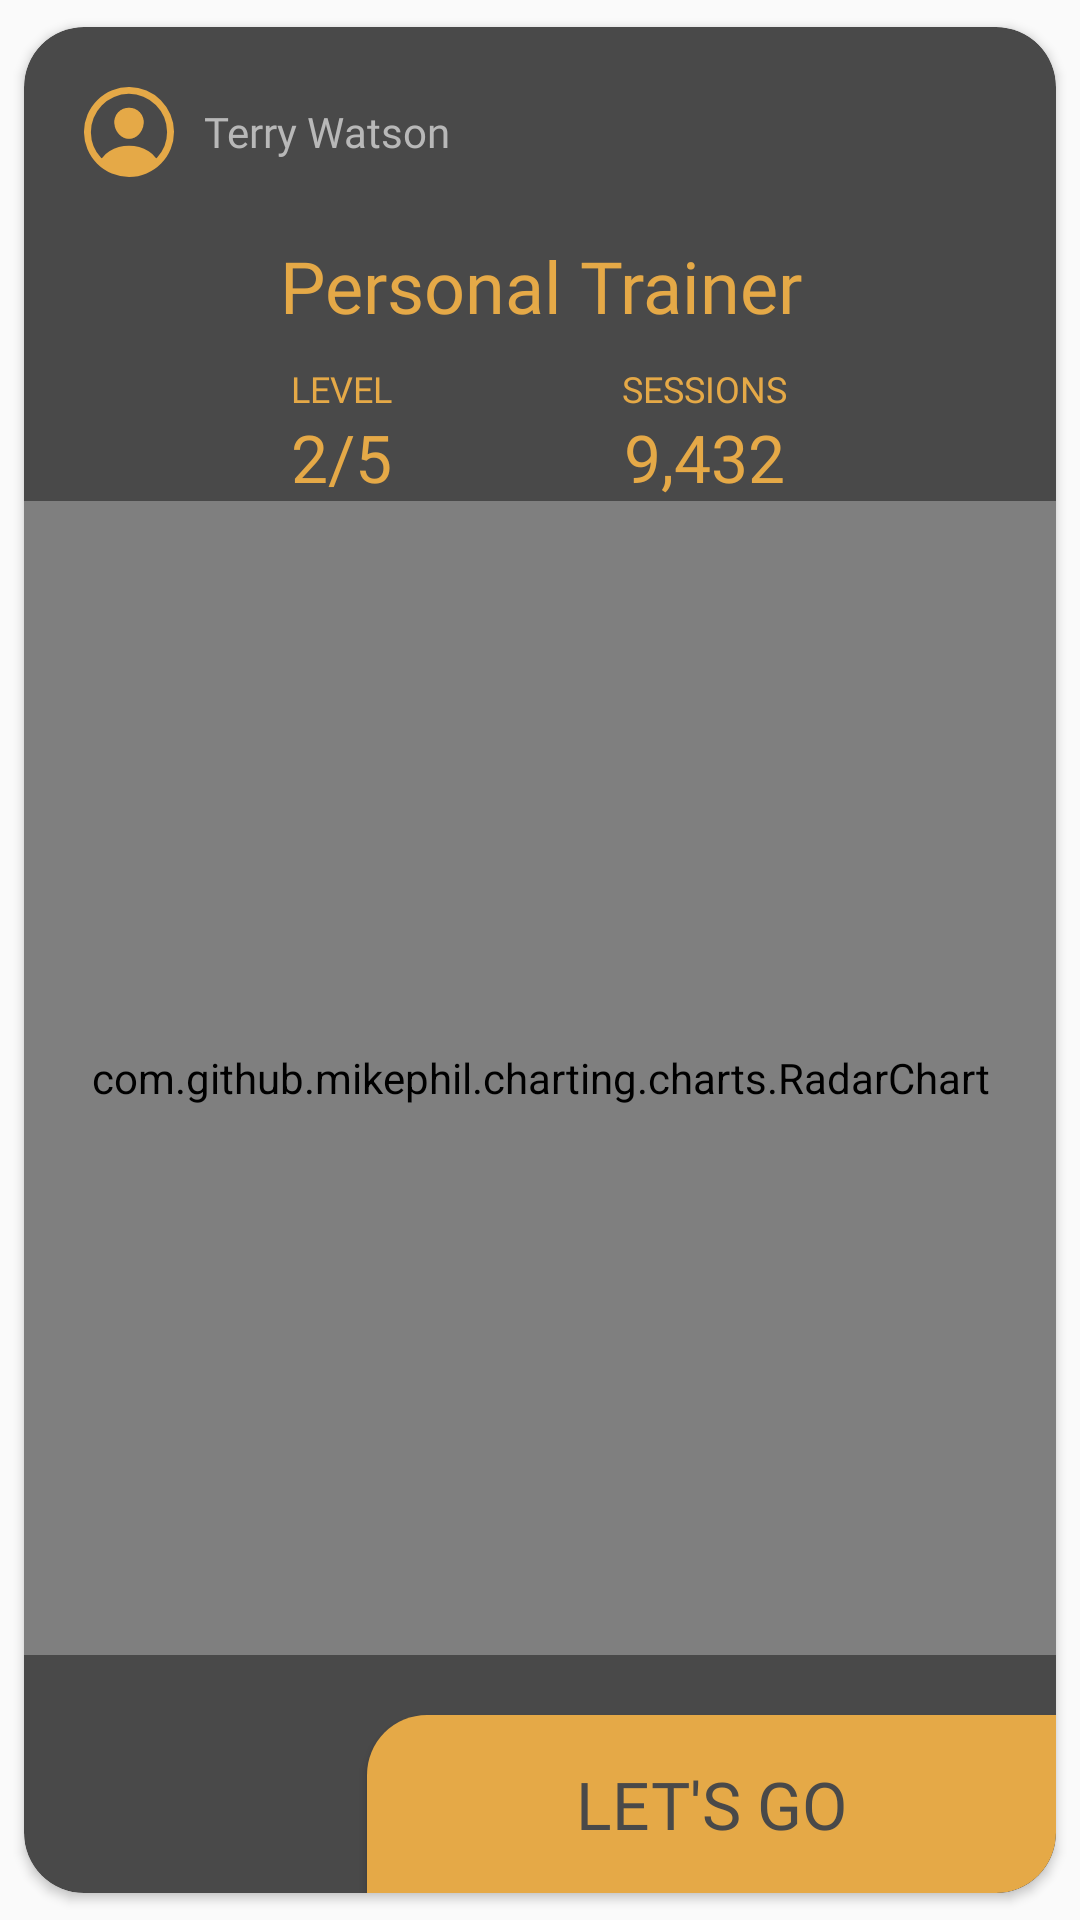

Locate icon controls on the screen. Image size 1080x1920, boxes as (x1, y1, x2, y2).
person circle: (84, 87, 174, 177)
